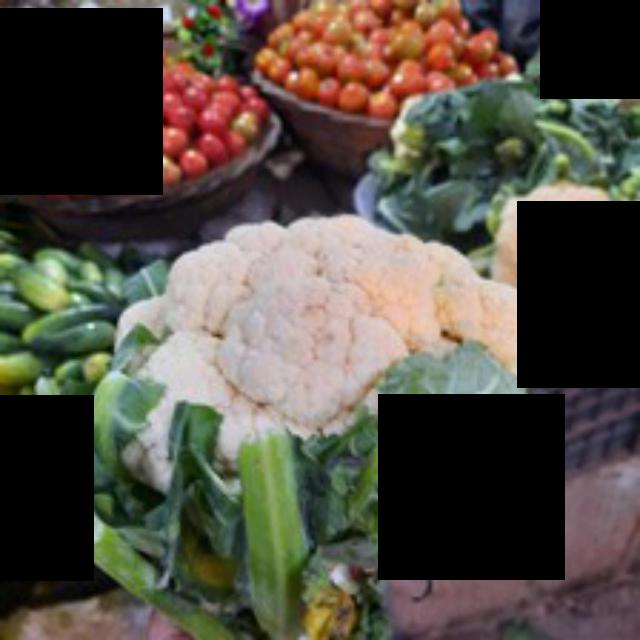cauliflower: (131, 195, 560, 552)
